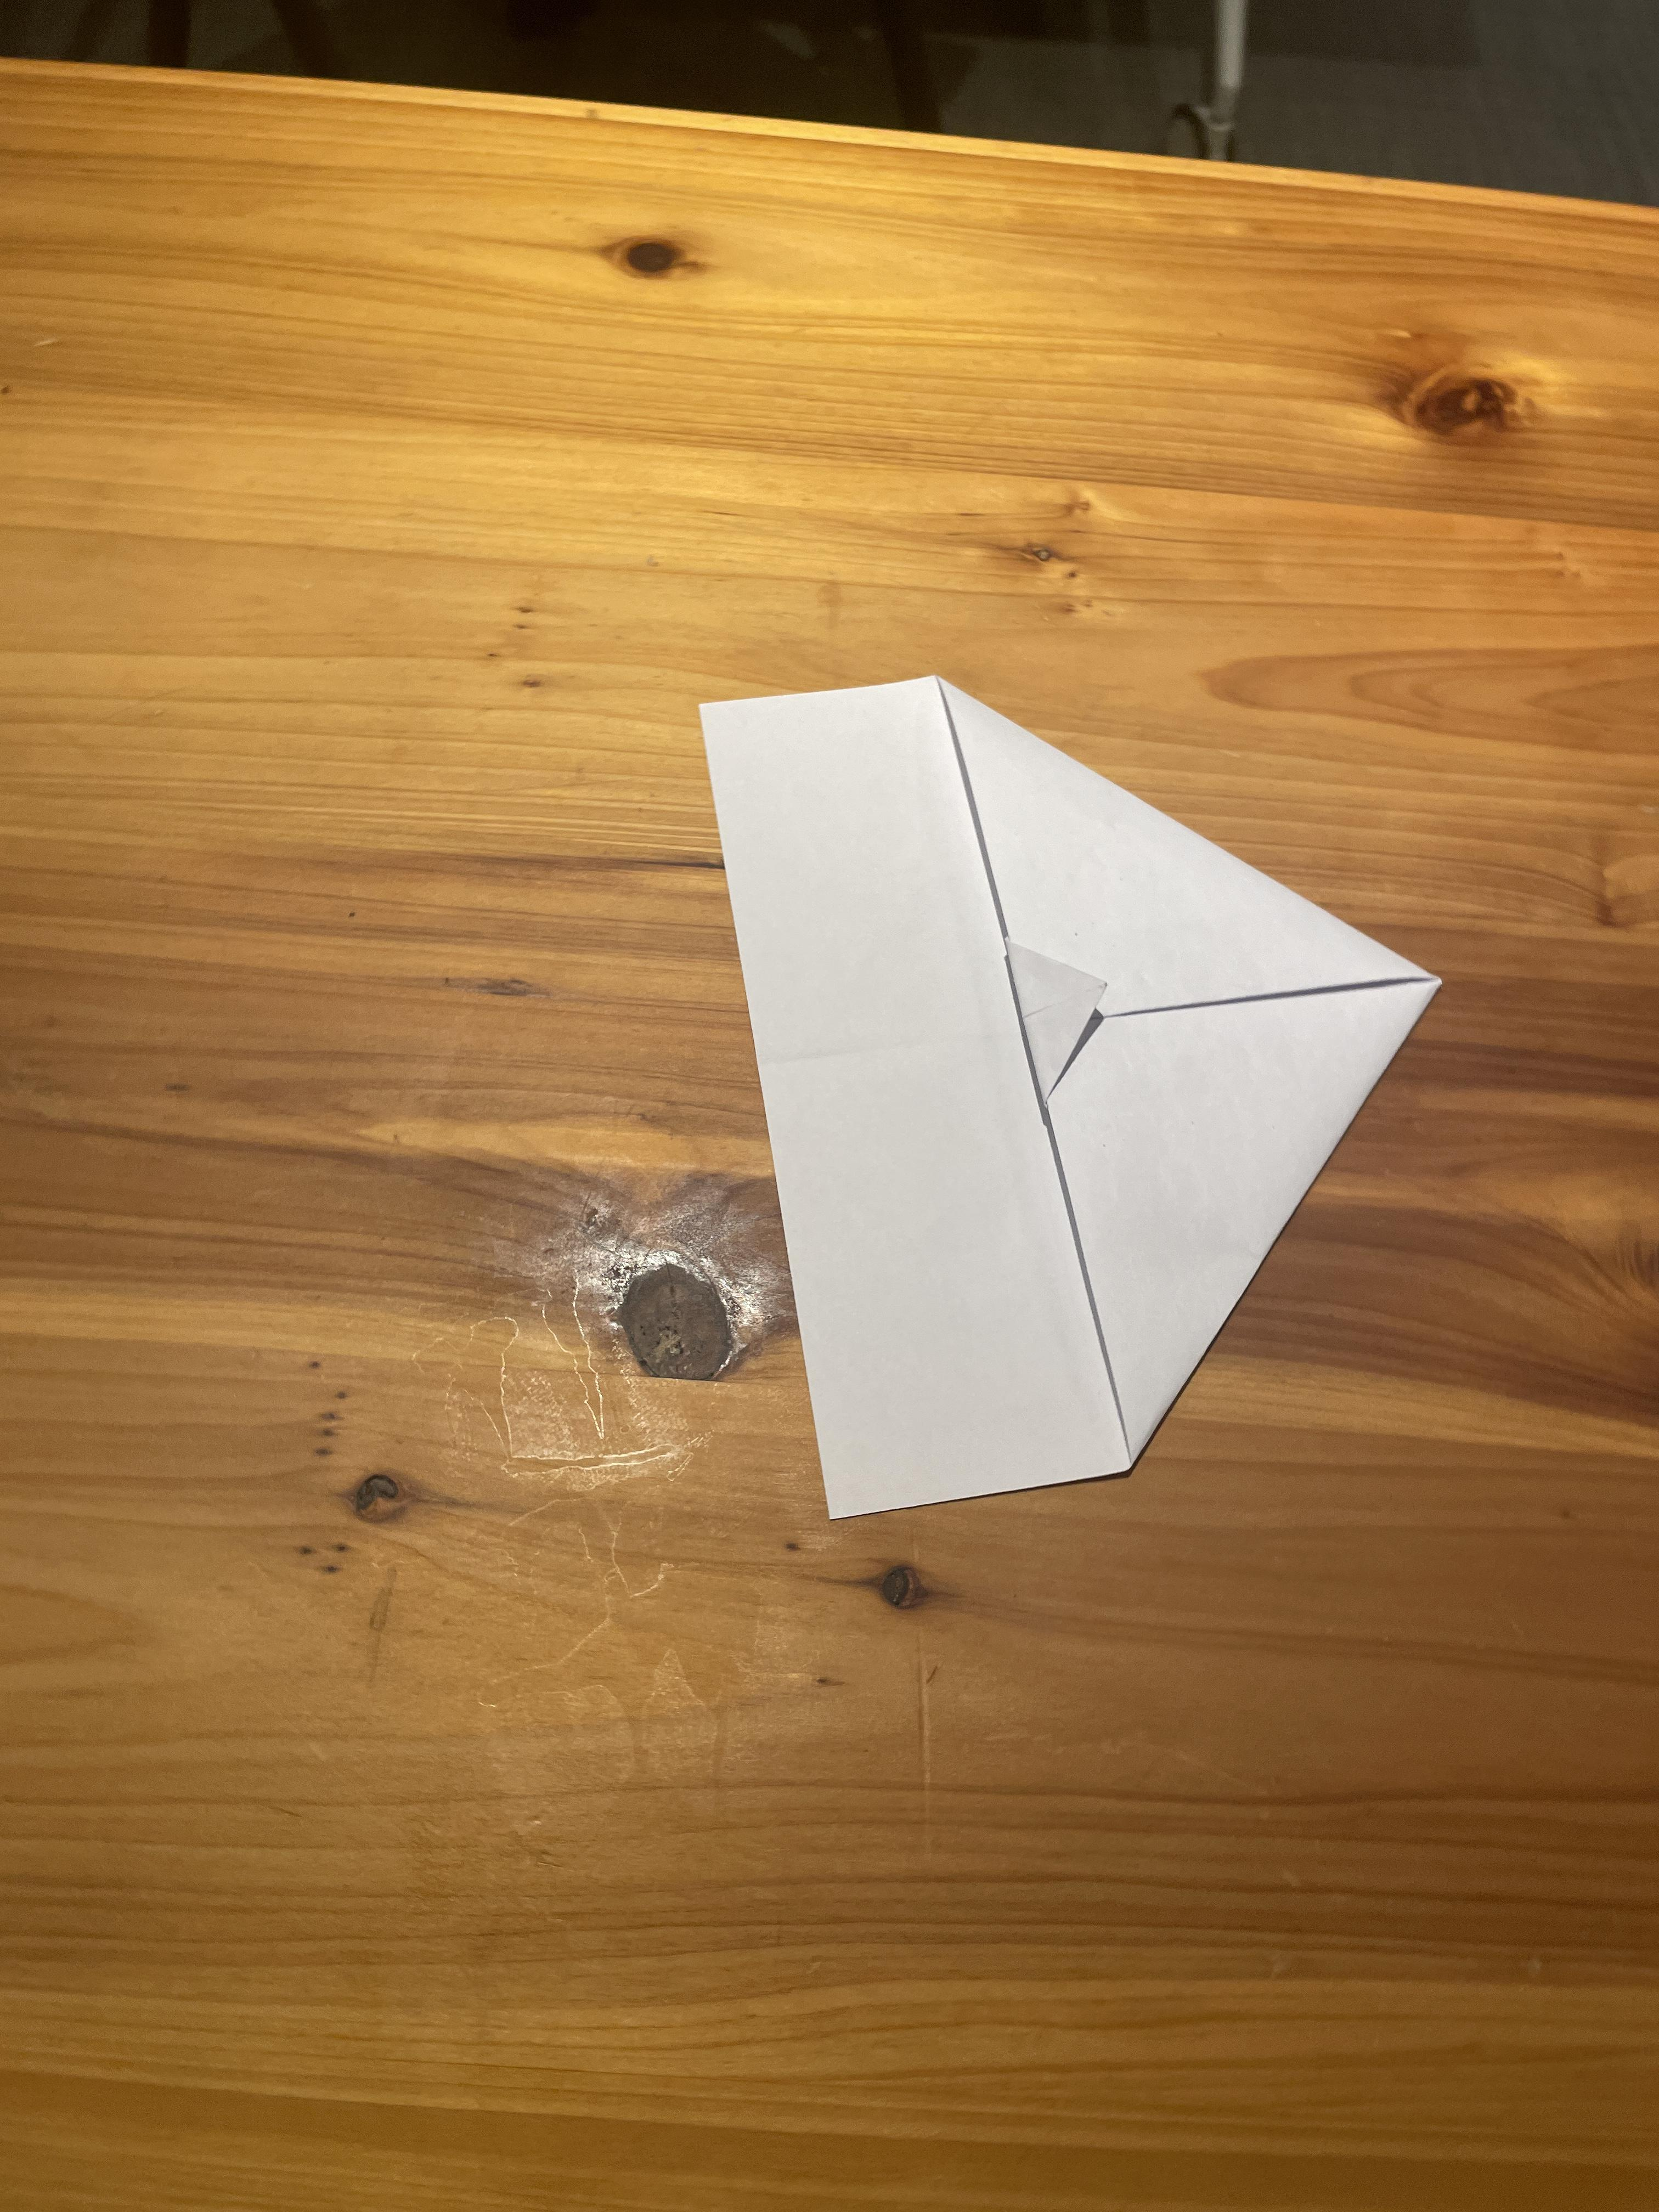shape_2: (544, 523, 1527, 1717)
